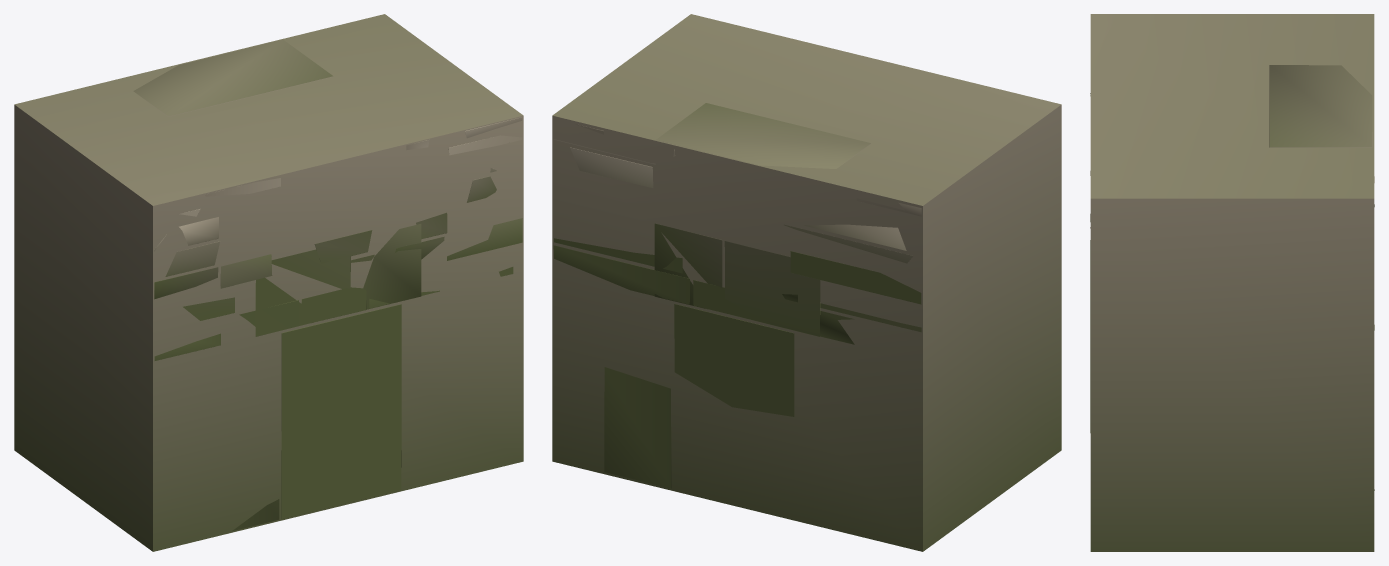
The model's file is harbour_quay_steps.glb.
The picture shows the model from 3 angles, left to right: view 1: azimuth 30°, elevation 25°; view 2: azimuth 150°, elevation 25°; view 3: azimuth 270°, elevation 25°; orthographic projection. The views are drawn at different scales.
Parts seen in each view (by area): view 1: harbour_quay_steps_far, harbour_quay_steps; view 2: harbour_quay_steps_far, harbour_quay_steps; view 3: harbour_quay_steps_far, harbour_quay_steps.
Part boxes in pixels (bbox=[...]): harbour_quay_steps_far: bbox=[14, 14, 523, 551]; harbour_quay_steps: bbox=[133, 39, 522, 531]; harbour_quay_steps_far: bbox=[552, 14, 1061, 551]; harbour_quay_steps: bbox=[553, 103, 921, 488]; harbour_quay_steps_far: bbox=[1090, 14, 1374, 551]; harbour_quay_steps: bbox=[1090, 65, 1374, 490].
Bounding box in the file's own units: 18.5 × 16.51 × 12.02.
